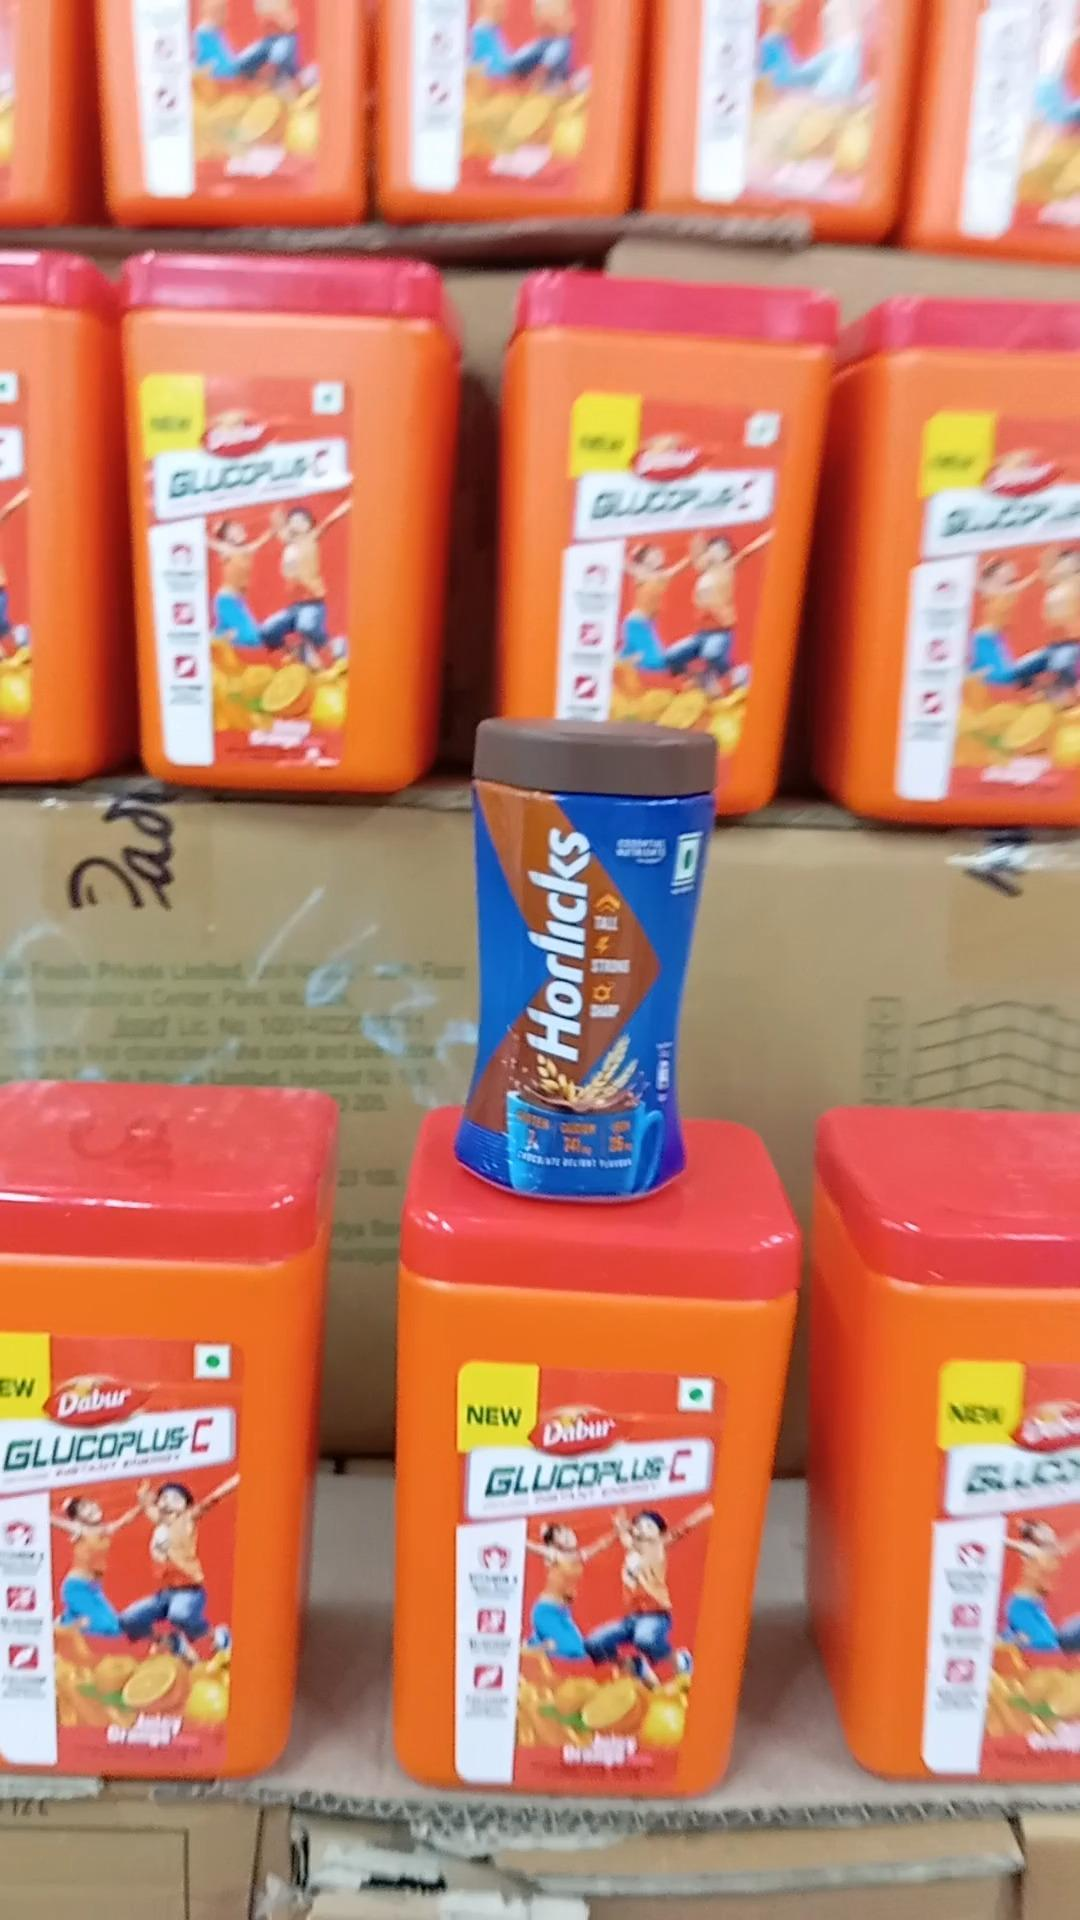HORLICK_CHOCOLATE_200_G_JAR: (467, 705, 699, 1203)
